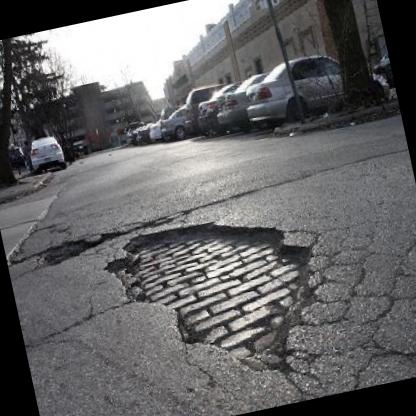pothole: (101, 194, 343, 404), (34, 232, 101, 270)
